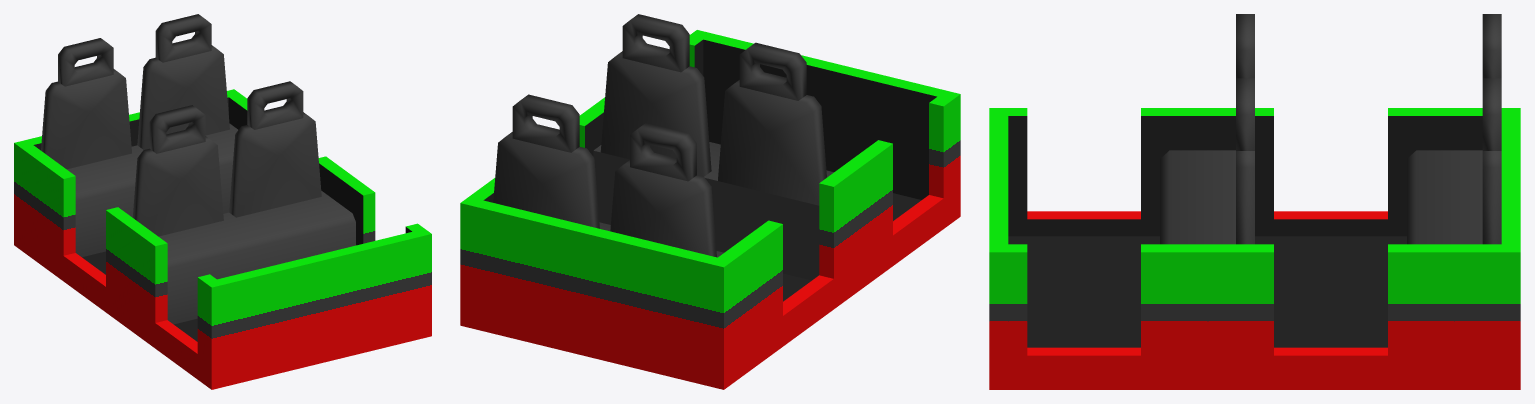
Rendered from car2.glb.
3 renders of one model, left to right at view 1: azimuth 30°, elevation 25°; view 2: azimuth 150°, elevation 25°; view 3: azimuth 270°, elevation 25°, orthographic. The views are drawn at different scales.
Parts seen in each view (by area): view 1: cylinder (×4), front (×2), seat-front, middle (×2), tube (×4), back (×3), seat-back, footer-front, footer-back, base; view 2: back (×2), cylinder (×4), front (×3), tube (×4), middle (×2), plane, footer-back, footer-front, base, seat-front; view 3: back (×3), middle (×2), base, front (×3), footer-back (×2), footer-front (×2), seat-back, seat-front, tube (×4), cylinder (×2).
Part boxes in pixels (x1,y1,x2,y2): cylinder (×4): [41, 45, 321, 236]; front (×2): [197, 231, 431, 389]; seat-front: [159, 191, 355, 324]; middle (×2): [106, 156, 375, 348]; tube (×4): [58, 14, 303, 153]; back (×3): [14, 89, 247, 281]; seat-back: [67, 123, 237, 256]; footer-front: [155, 320, 197, 379]; footer-back: [63, 253, 105, 312]; base: [82, 251, 197, 341]; back (×2): [460, 200, 782, 389]; cylinder (×4): [493, 51, 826, 257]; front (×3): [689, 30, 960, 228]; tube (×4): [512, 14, 806, 181]; middle (×2): [579, 97, 892, 308]; plane: [593, 150, 819, 280]; footer-back: [783, 275, 833, 346]; footer-front: [893, 195, 943, 265]; base: [783, 193, 921, 301]; seat-front: [594, 142, 833, 180]; back (×3): [1388, 108, 1520, 389]; middle (×2): [1141, 108, 1273, 389]; base: [1008, 236, 1406, 347]; front (×3): [989, 108, 1027, 389]; footer-back (×2): [1274, 211, 1387, 389]; footer-front (×2): [1027, 211, 1140, 389]; seat-back: [1407, 150, 1482, 244]; seat-front: [1160, 150, 1235, 244]; tube (×4): [1236, 14, 1501, 150]; cylinder (×2): [1236, 151, 1501, 244].
Bounding box in the file's own units: 1.12 × 0.9434 × 1.75.
1 material, 1 textured.
